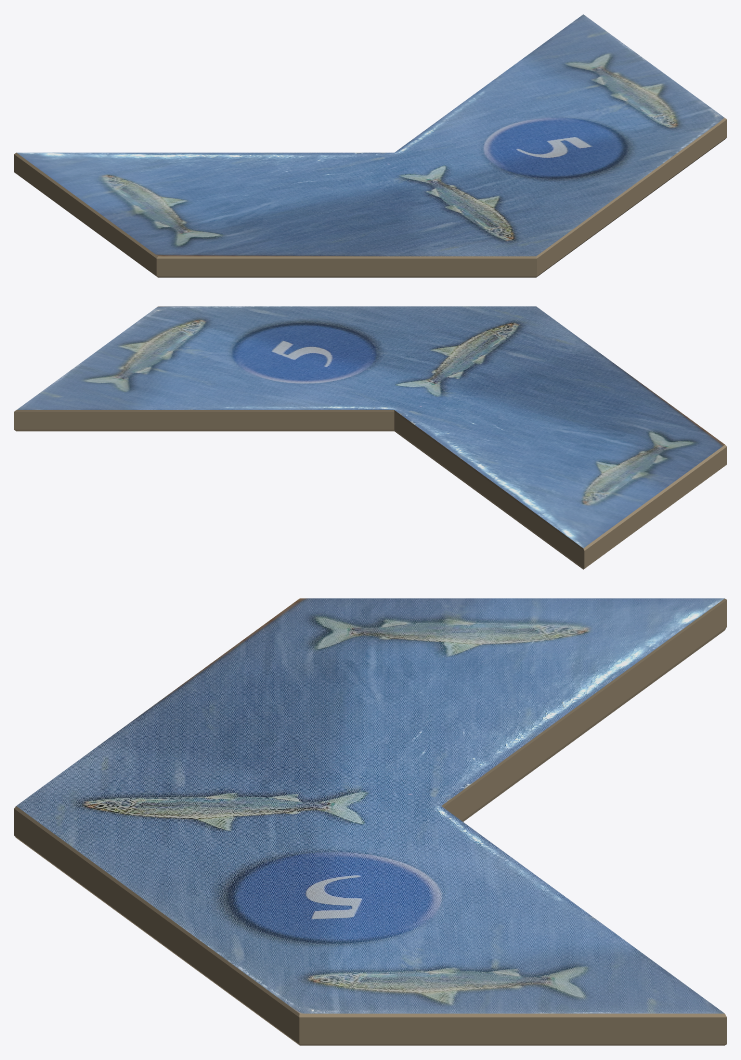
Rendered from ground-5.fbx.
The picture shows the model from 3 angles, top to bottom: view 1: azimuth 30°, elevation 25°; view 2: azimuth 150°, elevation 25°; view 3: azimuth 270°, elevation 25°; orthographic projection. The views are drawn at different scales.
Parts seen in each view (by area): view 1: ground-5.001; view 2: ground-5.001; view 3: ground-5.001.
Boxes of the visible parts, <box> form: ground-5.001: <box>14,14,726,277</box>; ground-5.001: <box>14,306,726,569</box>; ground-5.001: <box>14,598,726,1045</box>.
Size of the model in its own units: 4.2 by 0.15 by 3.03.
Materials: 2 (1 with a texture image).
